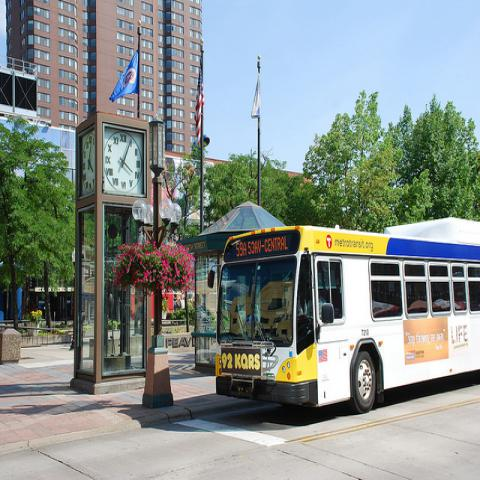bus: (210, 218, 479, 414)
